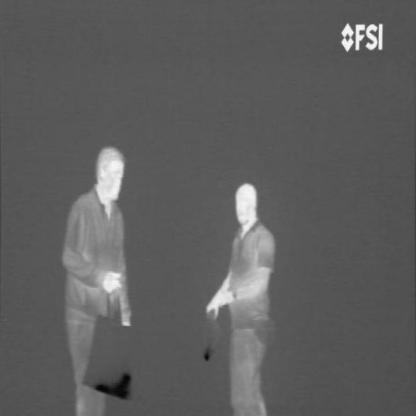weapon: (93, 370, 133, 401)
